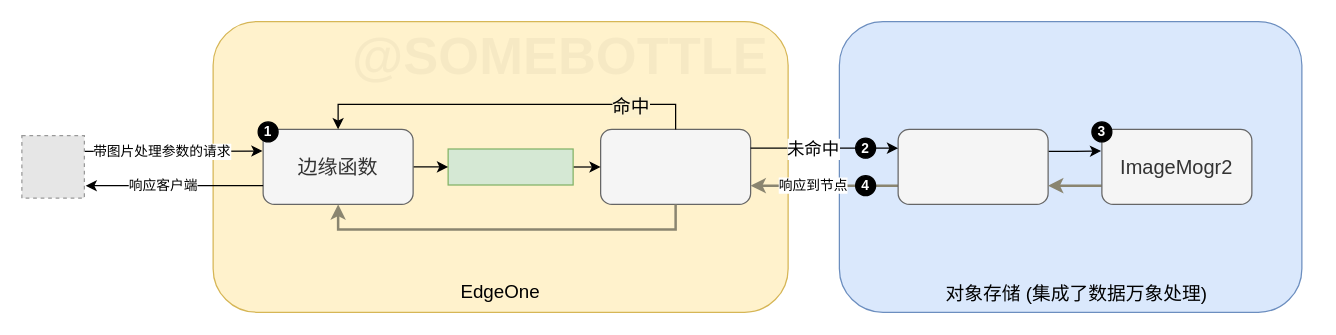
This 1336x335 diagram has some shape labels left out. Grey dashed boxes stand in for pictures. The shapes that lost their labels are listed below. From the top down, each one's centre as x and y in pixels, then its label:
[510,166]: 转换后的 URL
[675,166]: 节点缓存
[972,166]: 数据万象 CI
